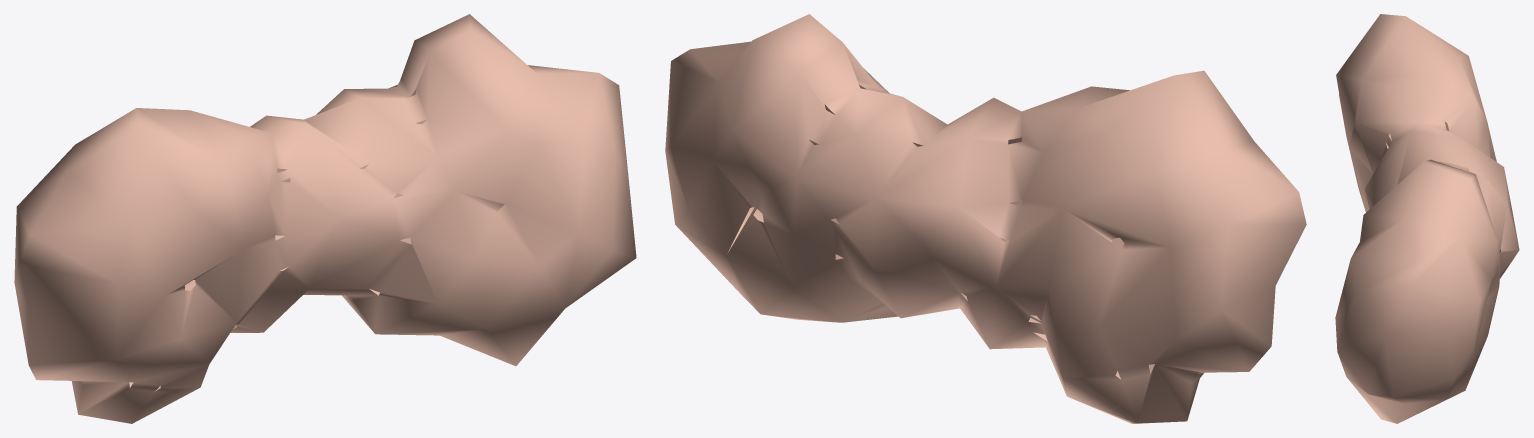
Rendered from glyoxyl.obj.
3 renders of one model, left to right at view 1: azimuth 30°, elevation 25°; view 2: azimuth 150°, elevation 25°; view 3: azimuth 270°, elevation 25°, orthographic. The views are drawn at different scales.
Visible parts, largest first — view 1: Low_res_Glyoxyl; view 2: Low_res_Glyoxyl; view 3: Low_res_Glyoxyl.
Boxes of the visible parts, x1,y1,x2,y2 form: Low_res_Glyoxyl: [14, 14, 636, 423]; Low_res_Glyoxyl: [665, 14, 1306, 423]; Low_res_Glyoxyl: [1335, 14, 1519, 423].
Bounding box in the file's own units: 6.21 × 3.25 × 2.05.
